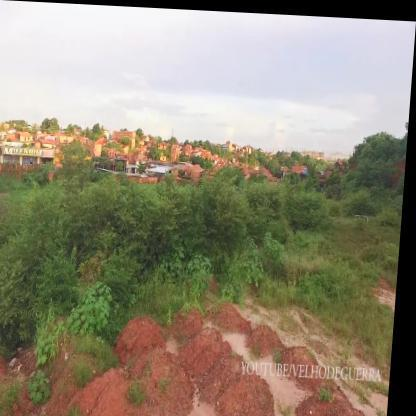agua: (230, 327, 257, 355), (196, 401, 221, 415)
